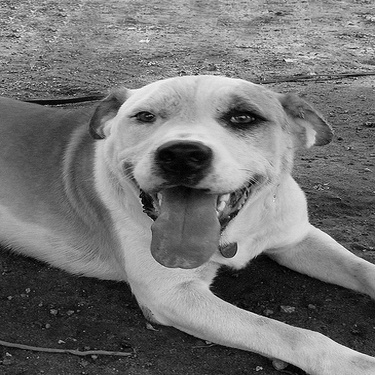dog: (3, 67, 370, 371)
